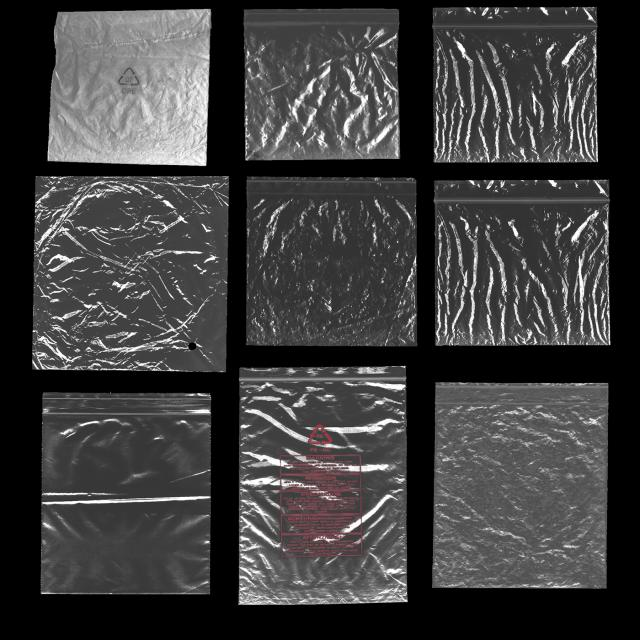Single-layer Plastic: (239, 366, 406, 604), (34, 176, 228, 371), (433, 384, 608, 588), (41, 392, 211, 594), (436, 180, 609, 345), (248, 178, 416, 346), (433, 8, 598, 162), (48, 9, 211, 164), (245, 9, 399, 160)
